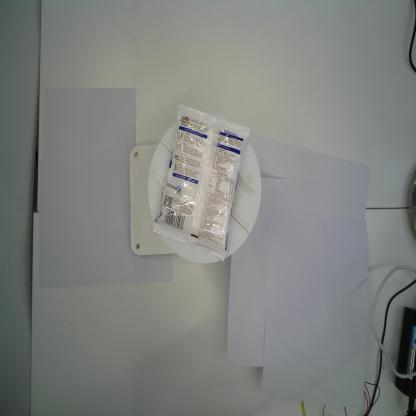Seasoner: (152, 102, 250, 262)
